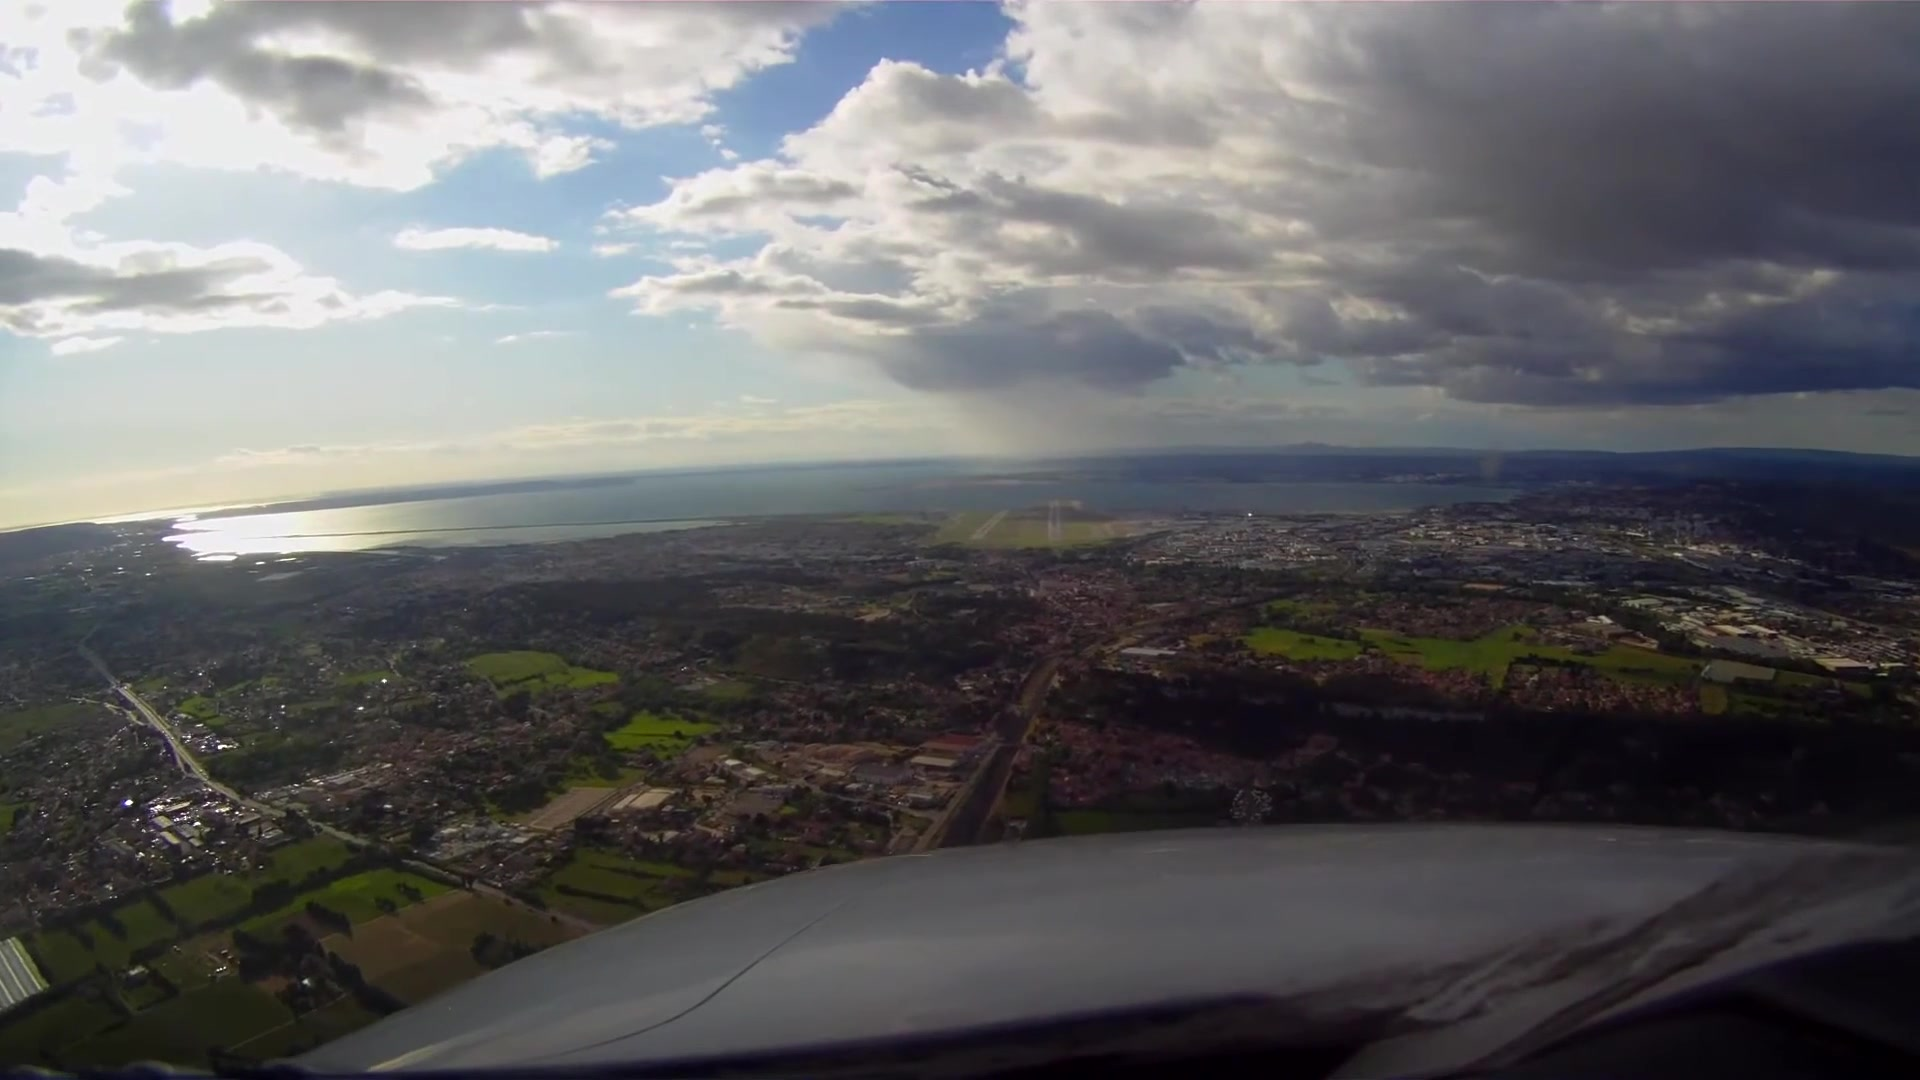runway: (967, 506, 1011, 541), (1047, 502, 1062, 545)
